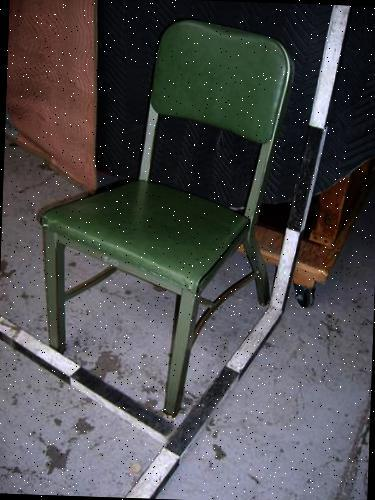Silla: (48, 17, 286, 411)
